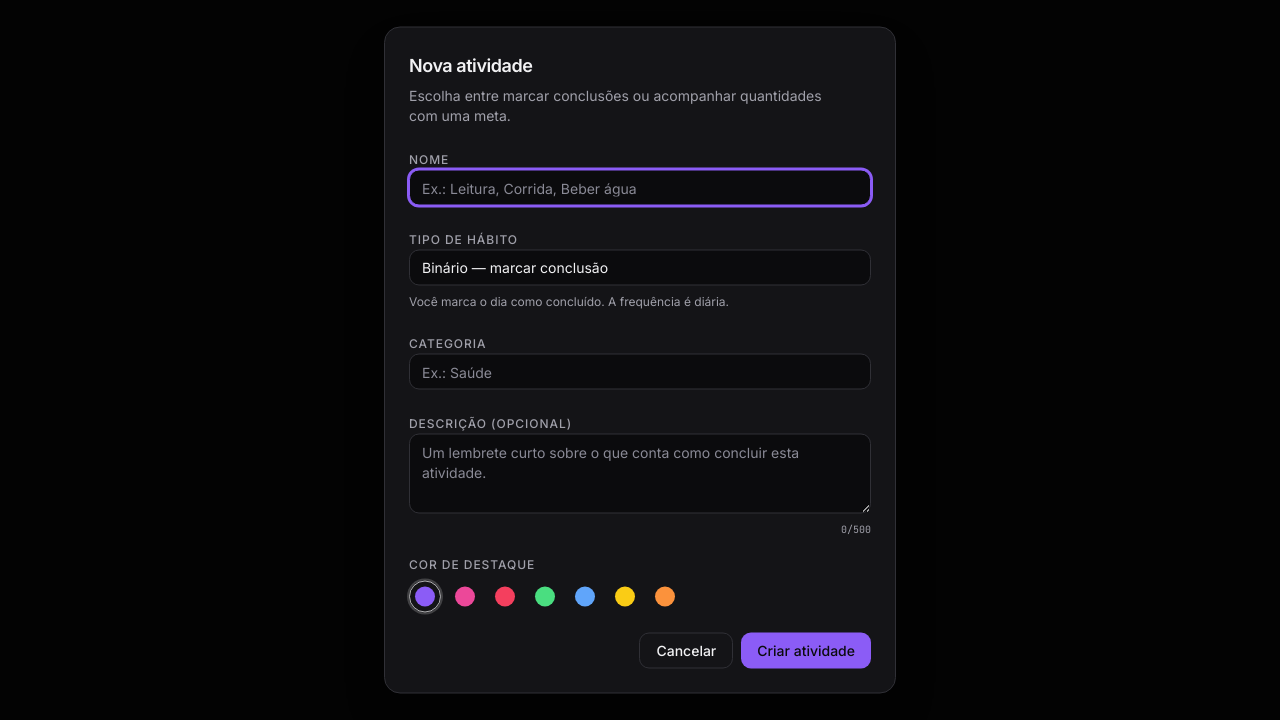
Test case: ActivityFormDialog › bloqueia o envio quando os campos obrigatórios estão vazios
This screenshot has width=1280, height=720.
Click the button "Criar atividade": (806, 650) left=741, top=632, right=871, bottom=668
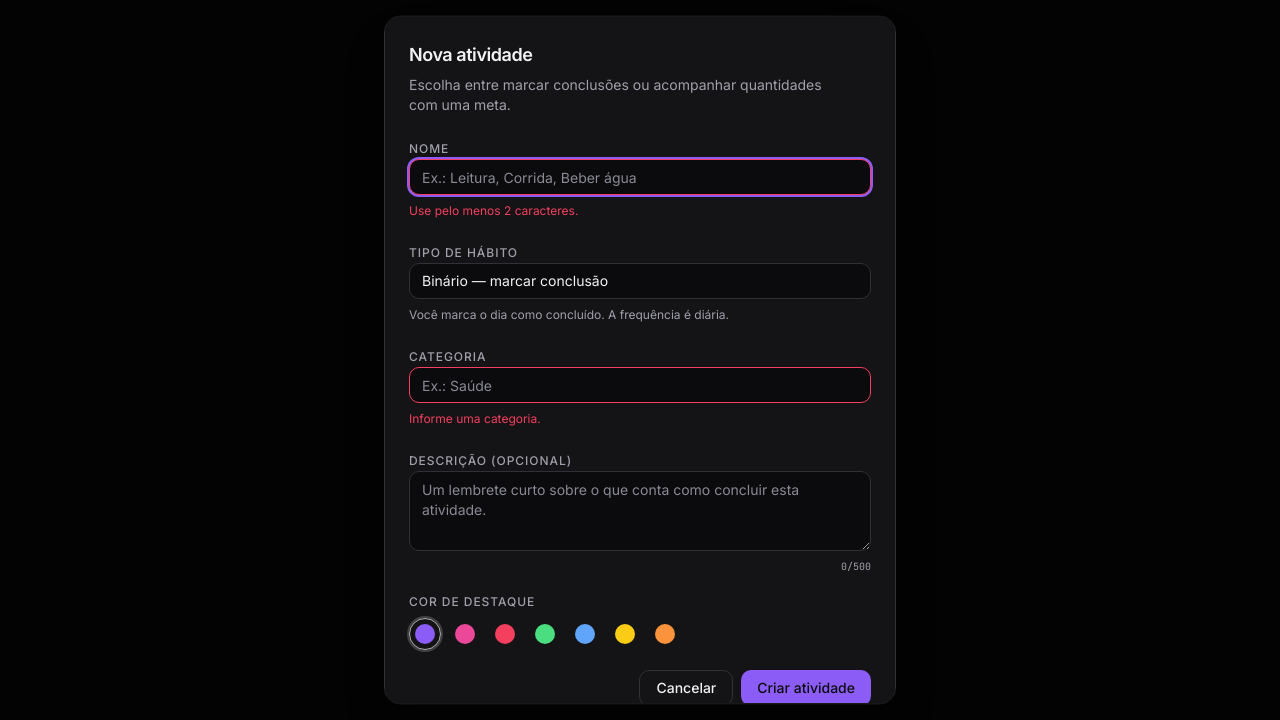
Result: the text "Use pelo menos 2 caracteres." is shown at left=409, top=203, right=578, bottom=218
Result: the text "Informe uma categoria." is shown at left=409, top=411, right=541, bottom=426
